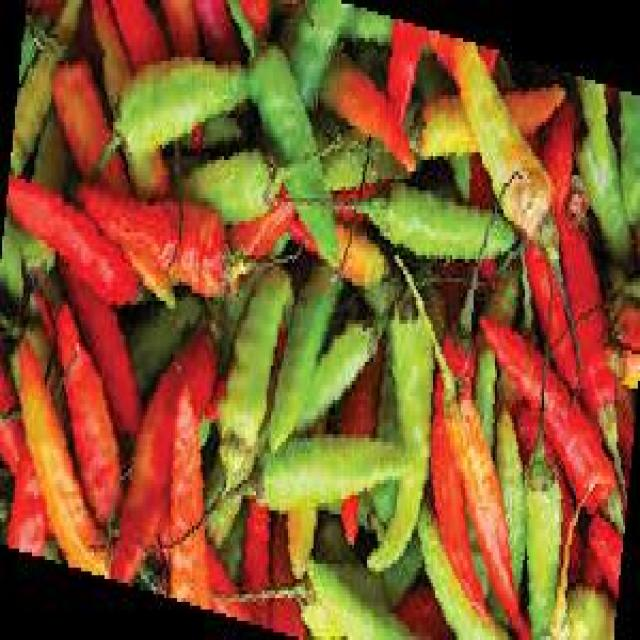Panama: (16, 138, 231, 328), (419, 304, 623, 496)
